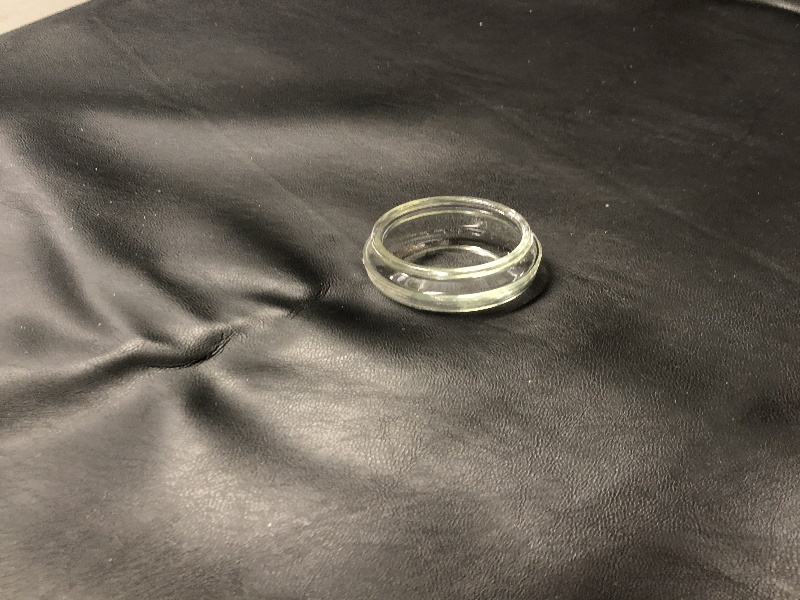glass: (358, 193, 550, 319)
